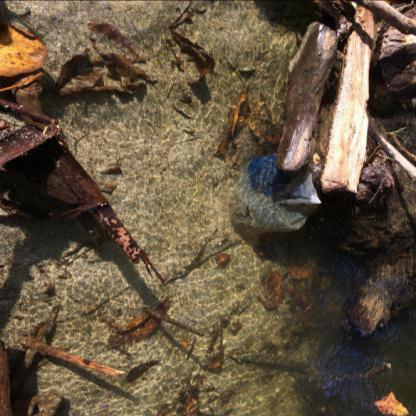Plastic bag - wrapper: (230, 153, 322, 236)
